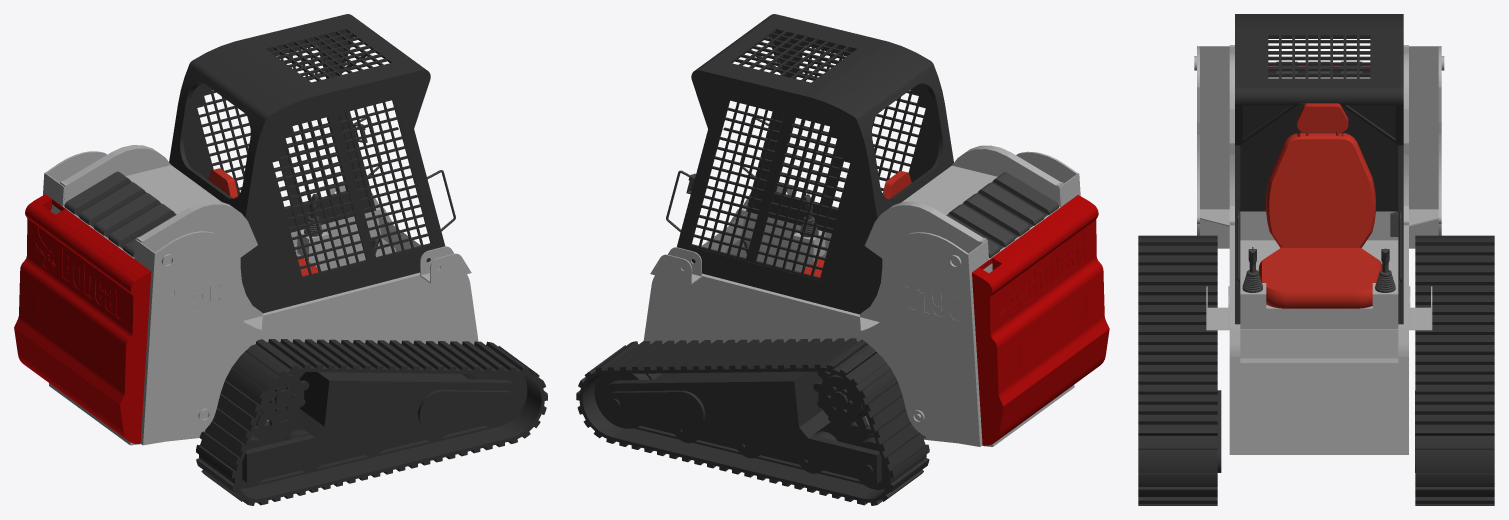
Rendered from bobcat_2.dae.
3 views of the same model, side by side, from view 1: azimuth 30°, elevation 25°; view 2: azimuth 150°, elevation 25°; view 3: azimuth 270°, elevation 25° (orthographic). The views are drawn at different scales.
Parts seen in each view (by area): view 1: node_ncl1_89; view 2: node_ncl1_89; view 3: node_ncl1_89.
Boxes of the visible parts, bbox=[...] form: node_ncl1_89: bbox=[14, 14, 547, 505]; node_ncl1_89: bbox=[576, 14, 1109, 505]; node_ncl1_89: bbox=[1138, 14, 1494, 505].
Bounding box in the file's own units: 2.44 × 1.71 × 2.06.
